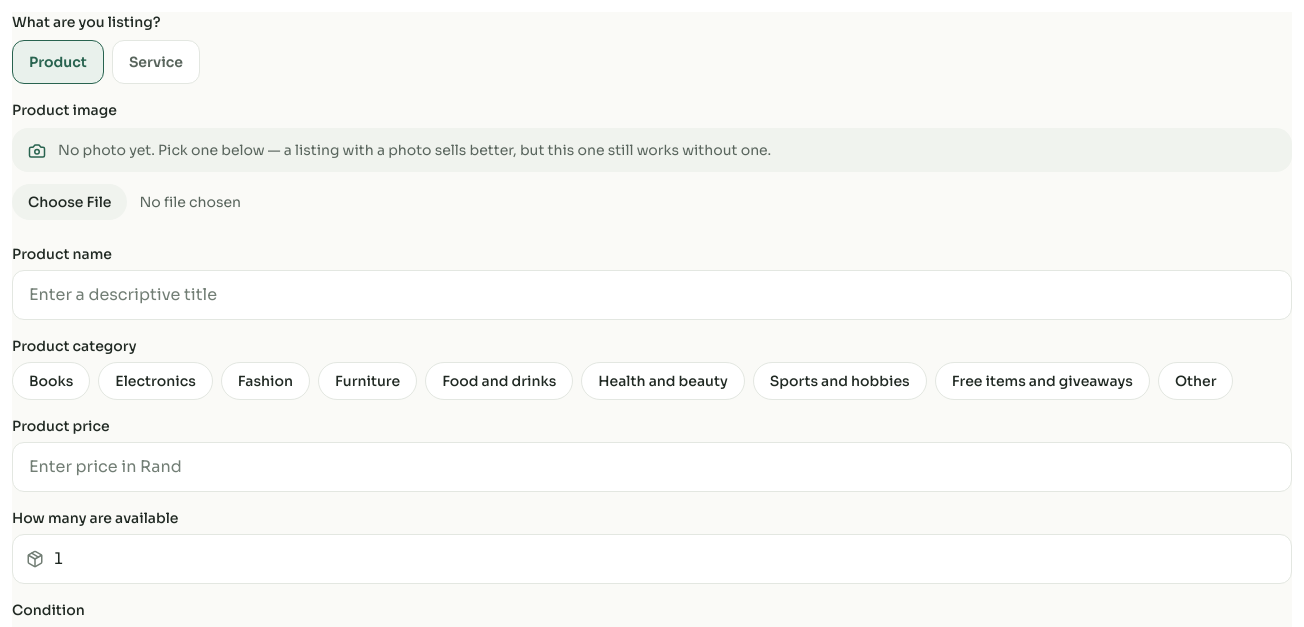
Test case: listing type selection › switches between separate product and service categories
Expected: the button "Electronics" is shown, [98, 362, 213, 400]
Expected: the button "Tutoring and academic help" is not shown
Click the button "Service": (156, 62) [112, 40, 200, 84]
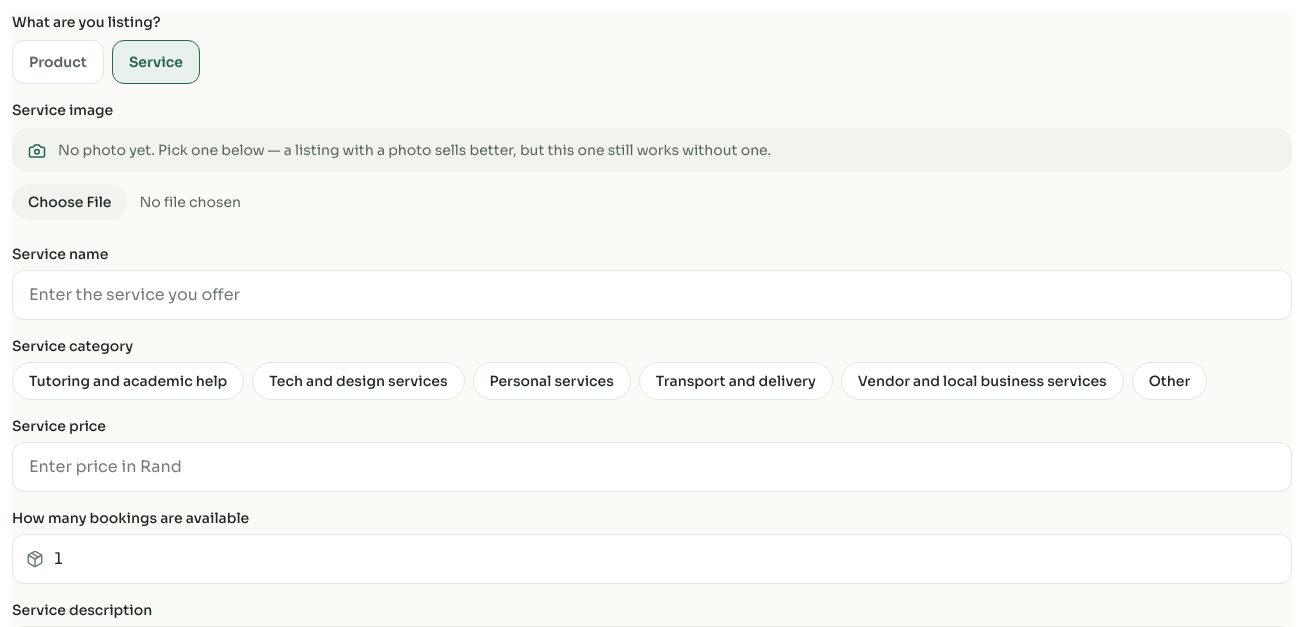
Result: the button "Tutoring and academic help" is shown at [12, 362, 244, 400]
Result: the button "Electronics" is gone
Result: the text "Condition" is gone
